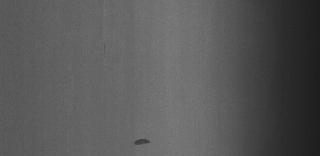oil spot: (131, 130, 153, 150)
